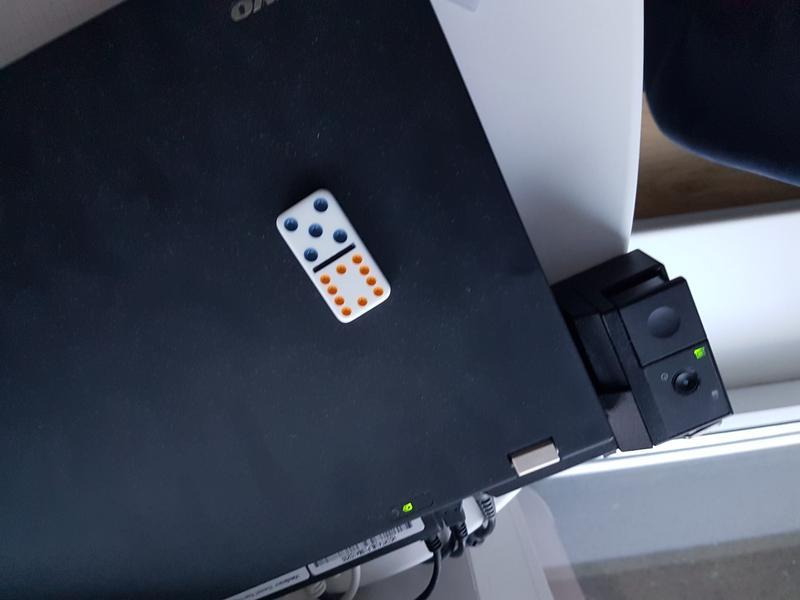Domino: (271, 186, 393, 327)
